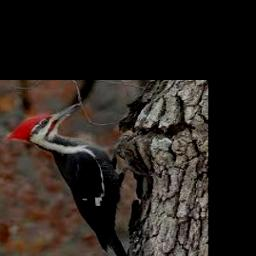Woodpecker: (6, 103, 129, 256)
